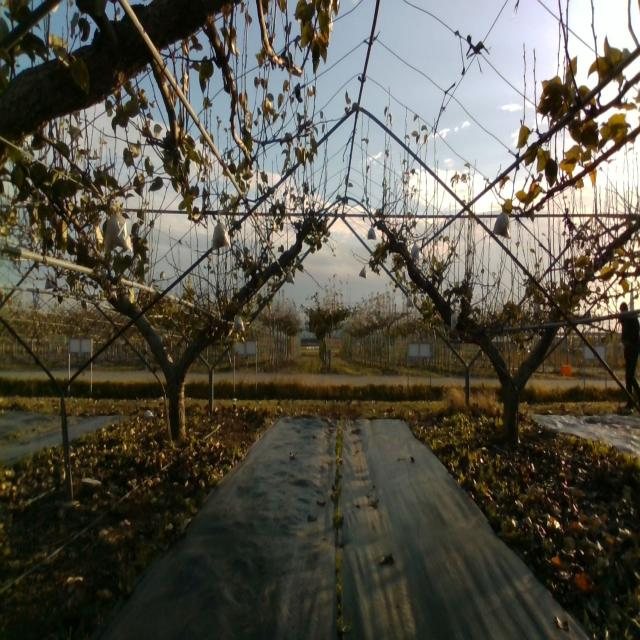pearbags: (100, 198, 133, 258), (490, 208, 510, 238), (213, 217, 229, 252), (234, 314, 244, 334)
